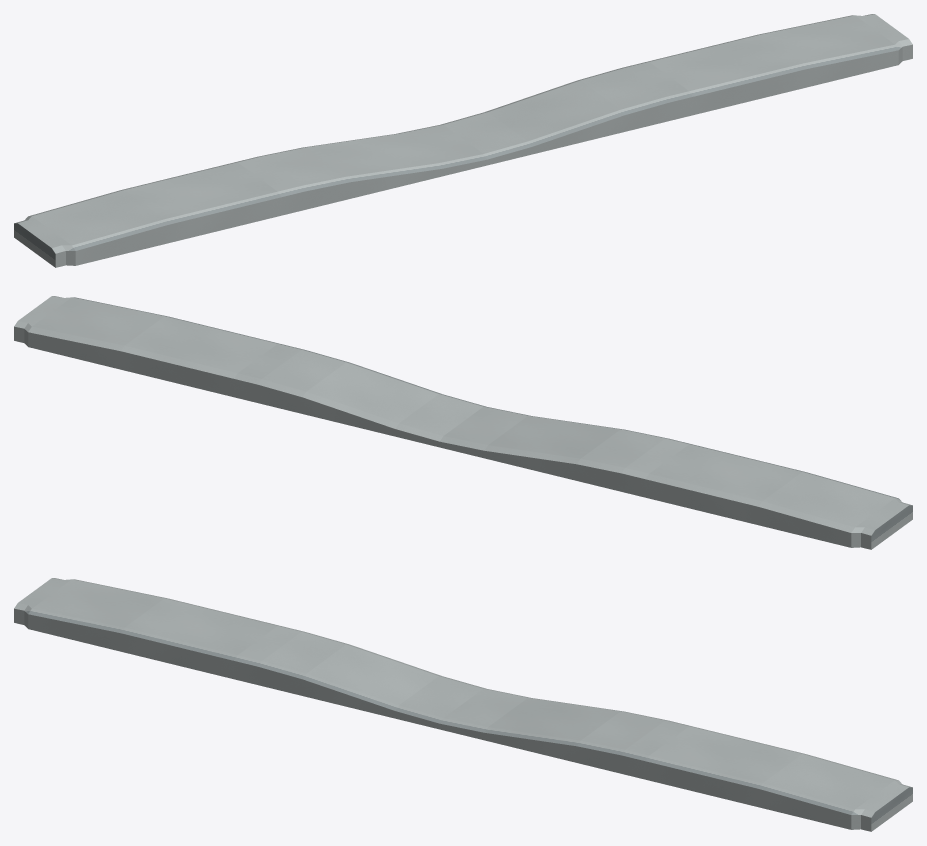
The model's file is sleeper.obj.
3 views of the same model, one above another, from view 1: azimuth 30°, elevation 25°; view 2: azimuth 150°, elevation 25°; view 3: azimuth 330°, elevation 25° (orthographic).
Visible parts, largest first — view 1: sleeper; view 2: sleeper; view 3: sleeper.
Boxes of the visible parts, bbox=[...] form: sleeper: bbox=[14, 14, 912, 267]; sleeper: bbox=[14, 296, 912, 549]; sleeper: bbox=[14, 578, 912, 831].
Bounding box in the file's own units: 2.5 × 0.0594 × 0.24.
